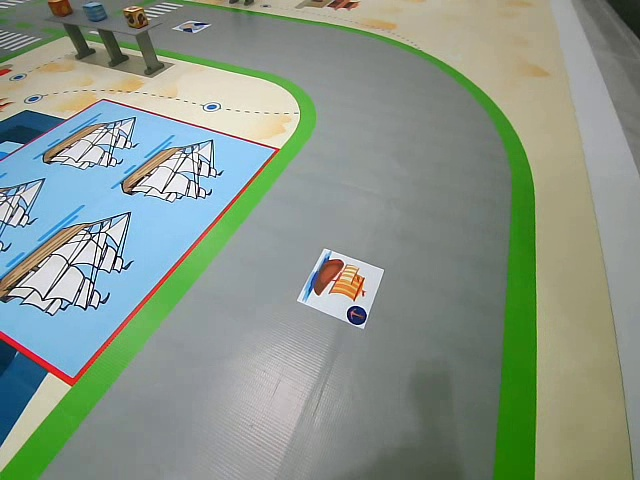fishes: (82, 1, 106, 22)
fishingBoatsSingLate: (299, 248, 394, 334)
oranges: (49, 1, 74, 18)
pinecones: (124, 6, 152, 27)
